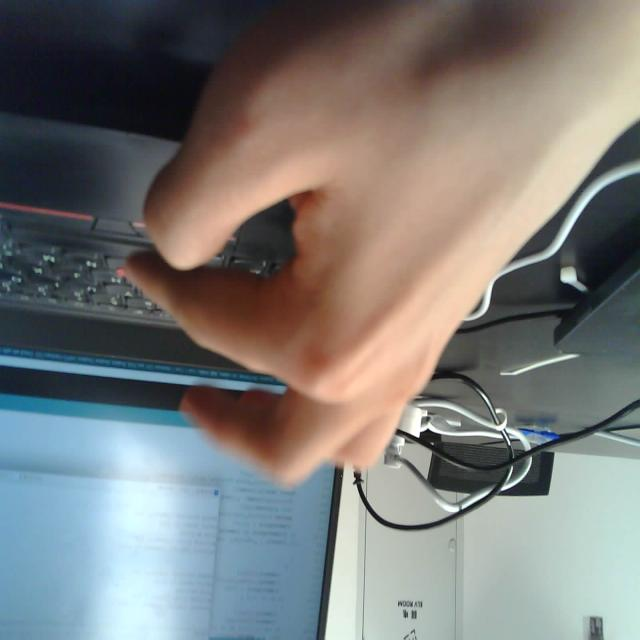keyboard-with-hands: (0, 111, 409, 367)
